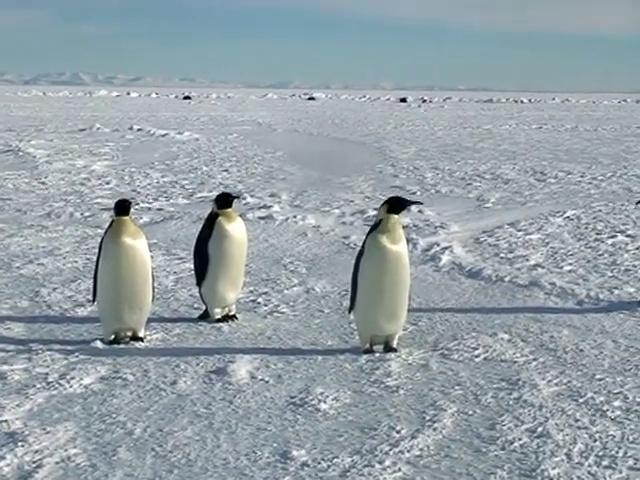animal: (349, 196, 421, 353)
